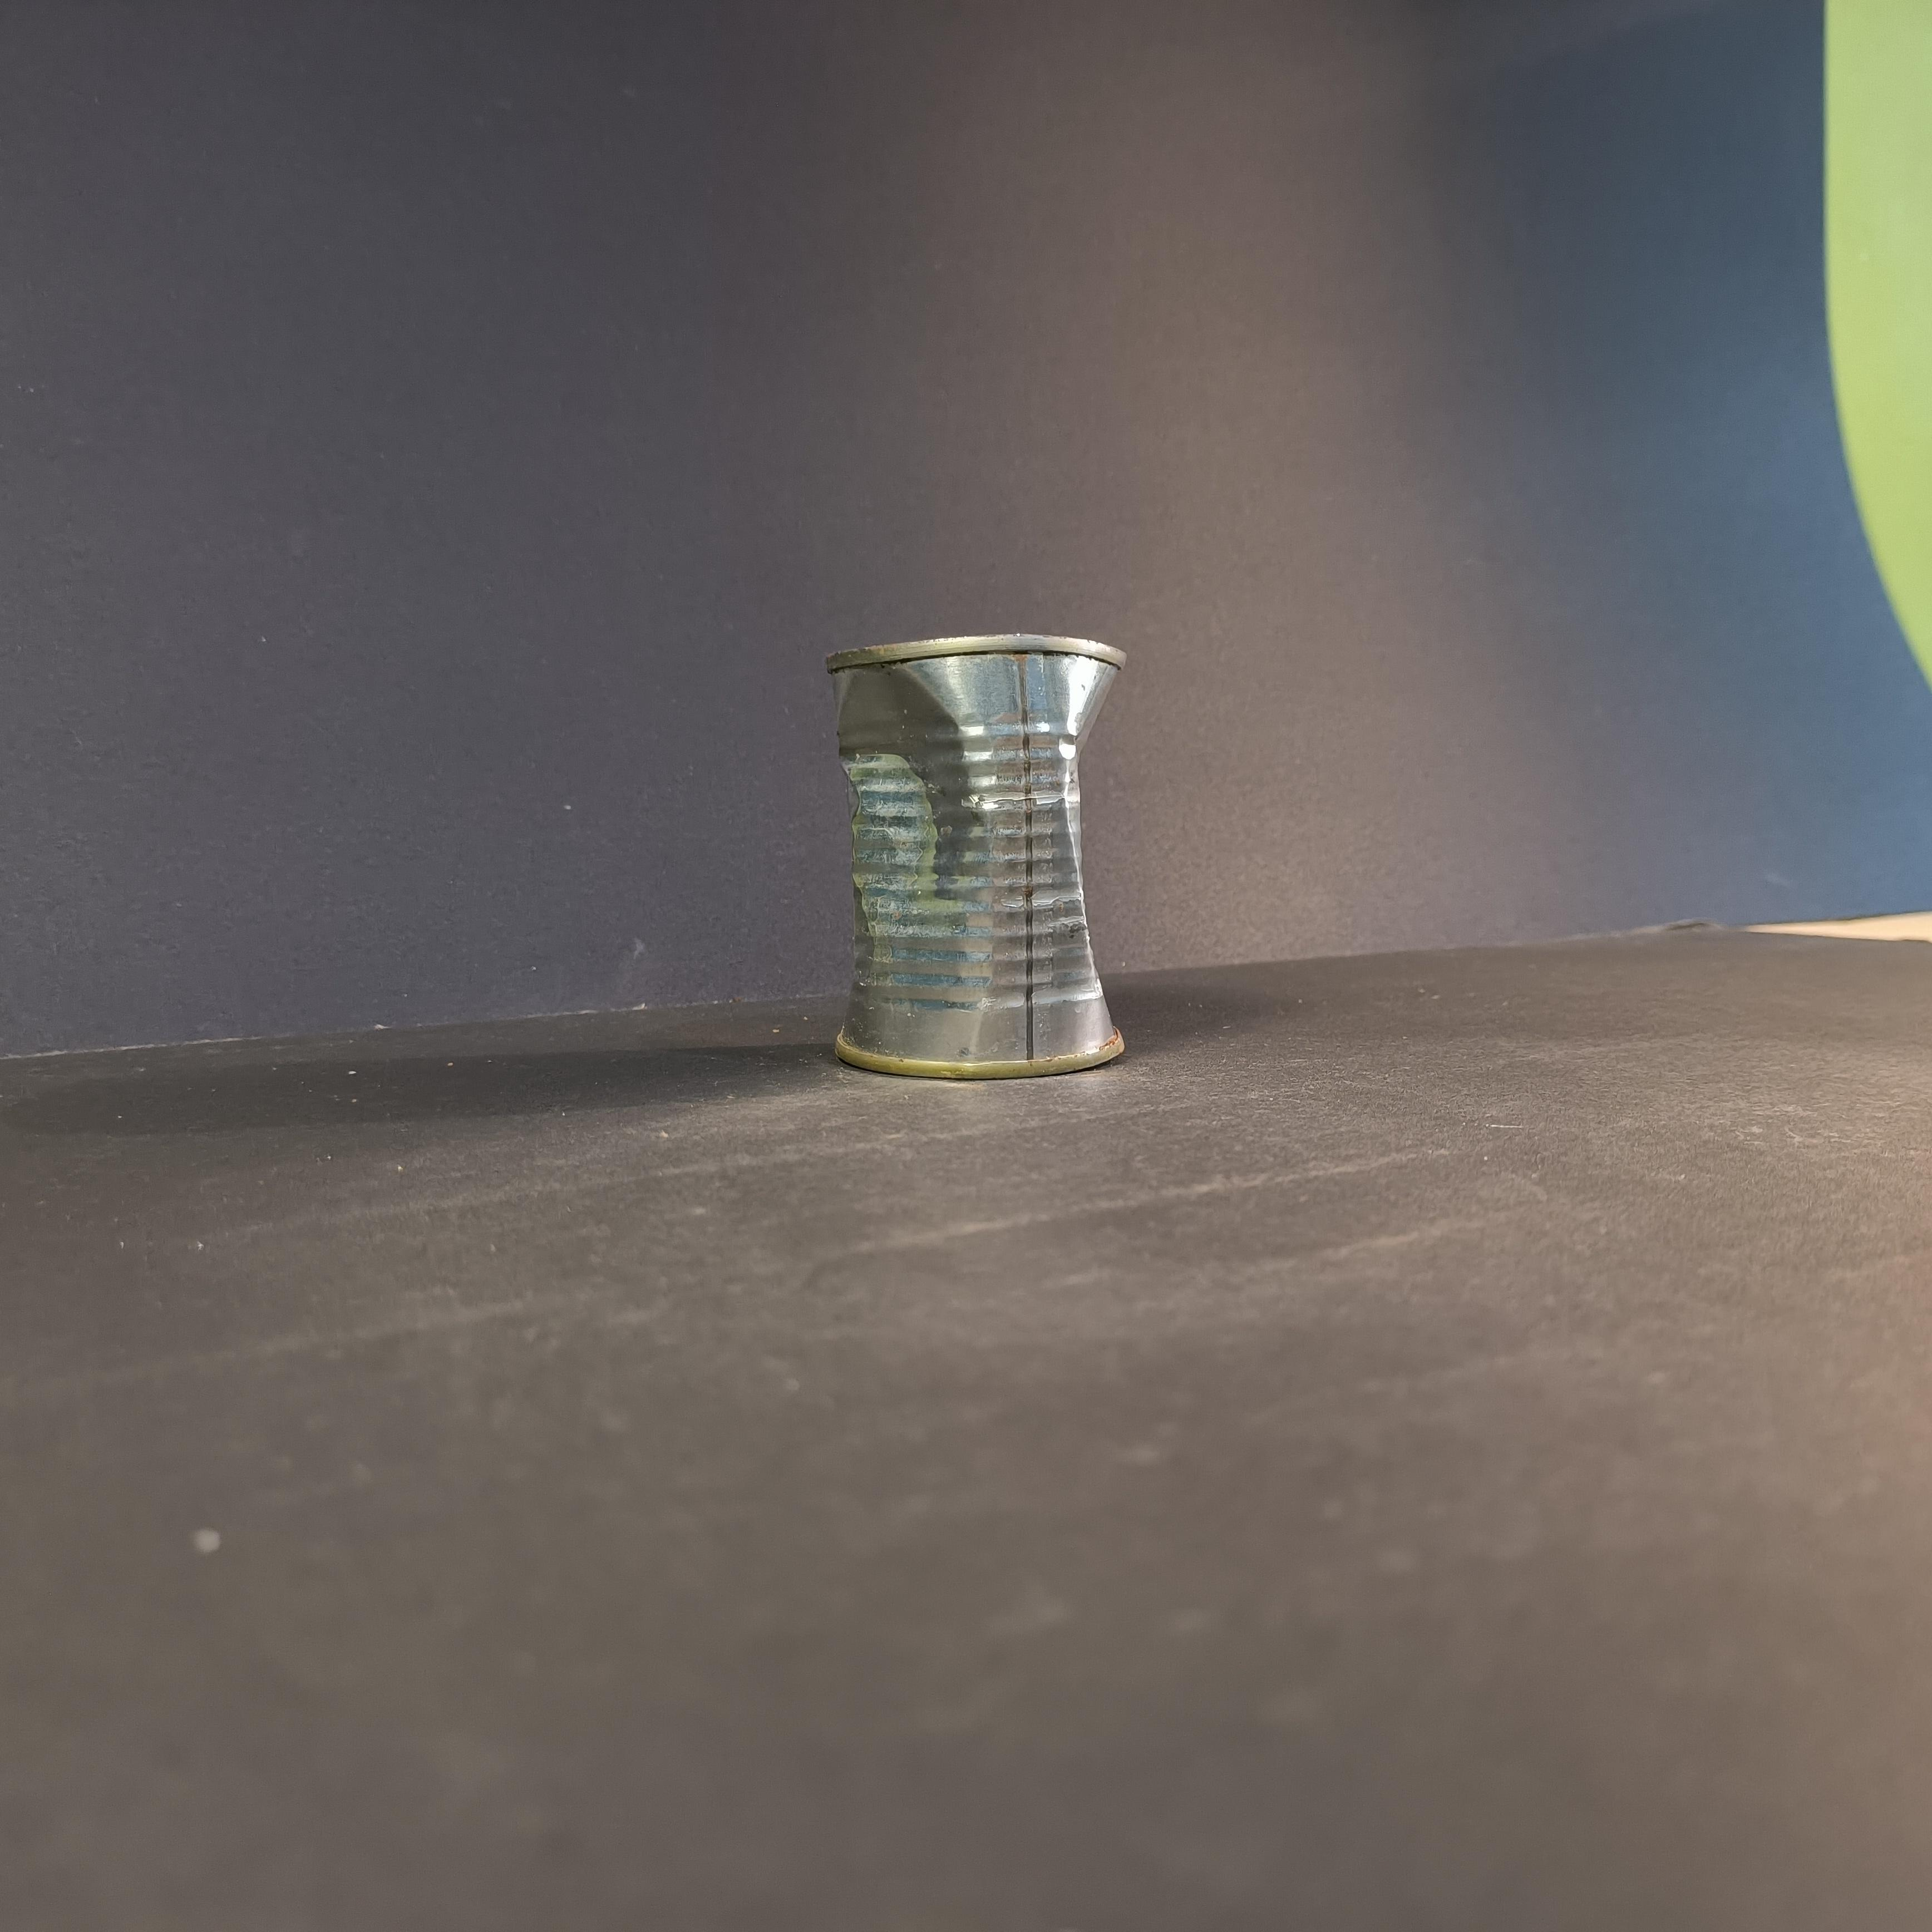Dented: (793, 616, 1152, 1085)
